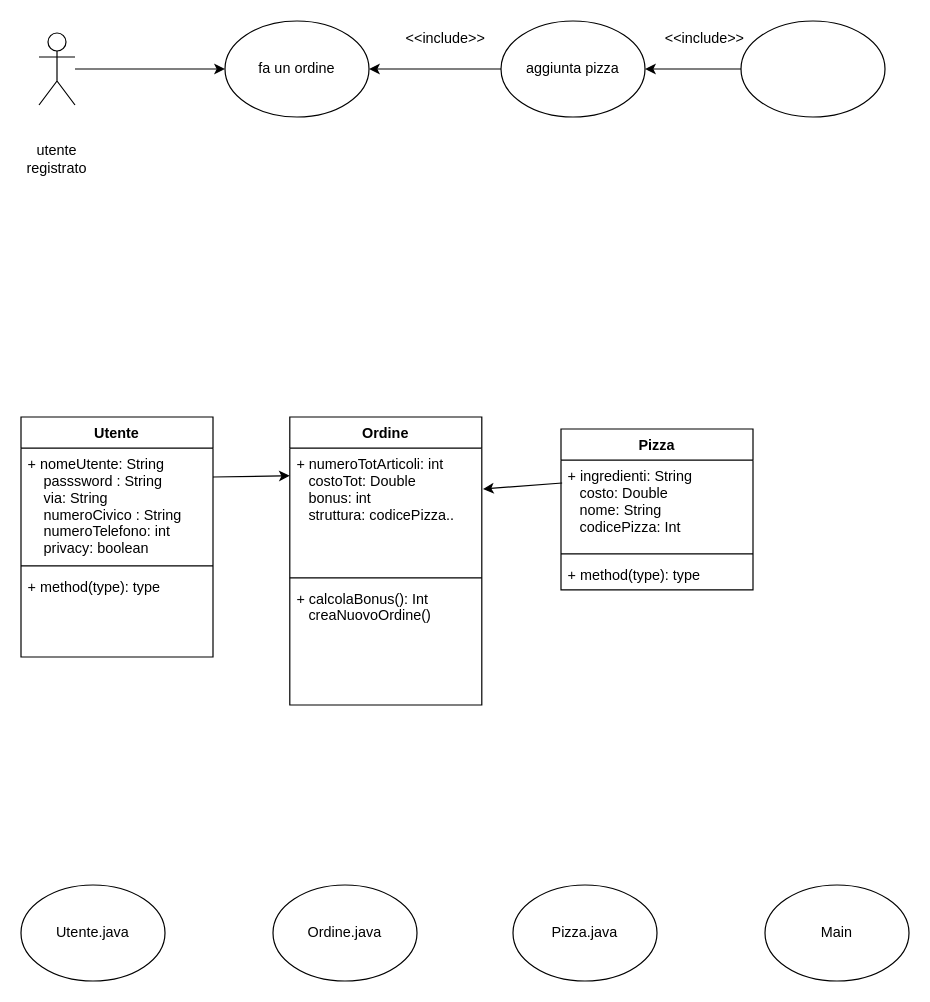
This 930x1002 diagram has some shape labels left out. Each missing label, with the centre of its shape:
Actor: the point at 56,68
verifica disponibilità ingredienti: the point at 812,68
